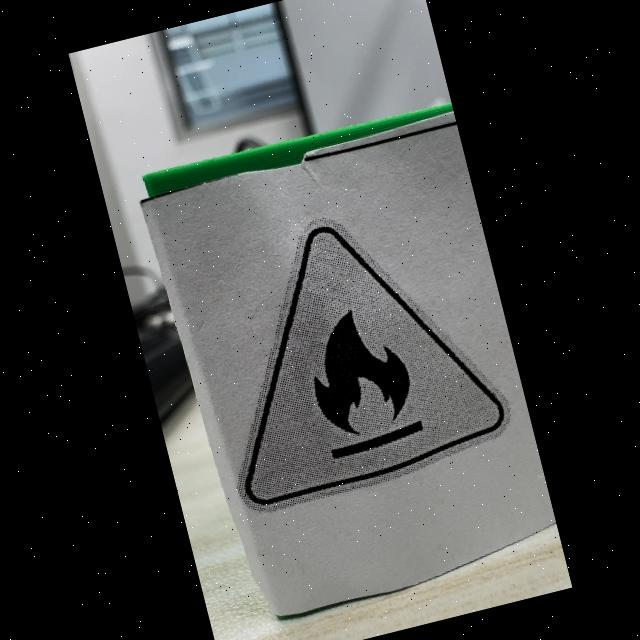Fire: (244, 227, 503, 505)
